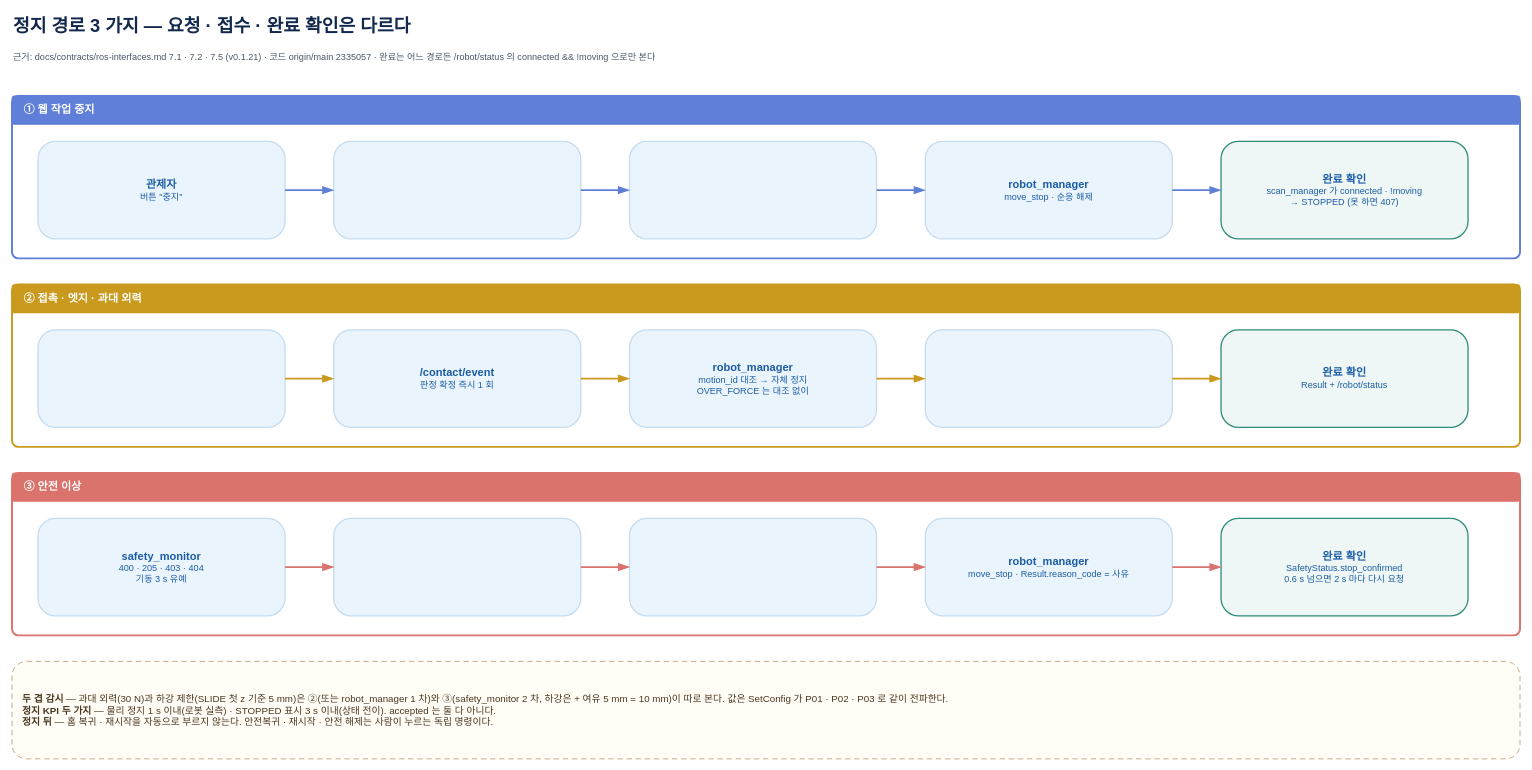
This 1532x770 diagram has some shape labels left out. The shapes that lost their labels are listed below. From the top down, each one's centre as x and y in pixels, then its label:
the point at 457,189: mqtt_bridge cmd/scan/stop → /scan/stop (만료 검사 제외)
the point at 753,189: scan_manager /robot/stop + goal cancel StopScan.accepted = 접수
the point at 161,378: contact_detector CONTACT · EDGE · OVER_FORCE (스텝 EDGE 는 robot_manager)
the point at 1048,378: ExecuteMotion Result 정지 pose + 사유 (접수 단계 없음)
the point at 457,566: 래치 첫 원인 유지 해제는 /safety/reset 만
the point at 753,566: /robot/stop requester='safety_monitor' 웹 경유 없음
